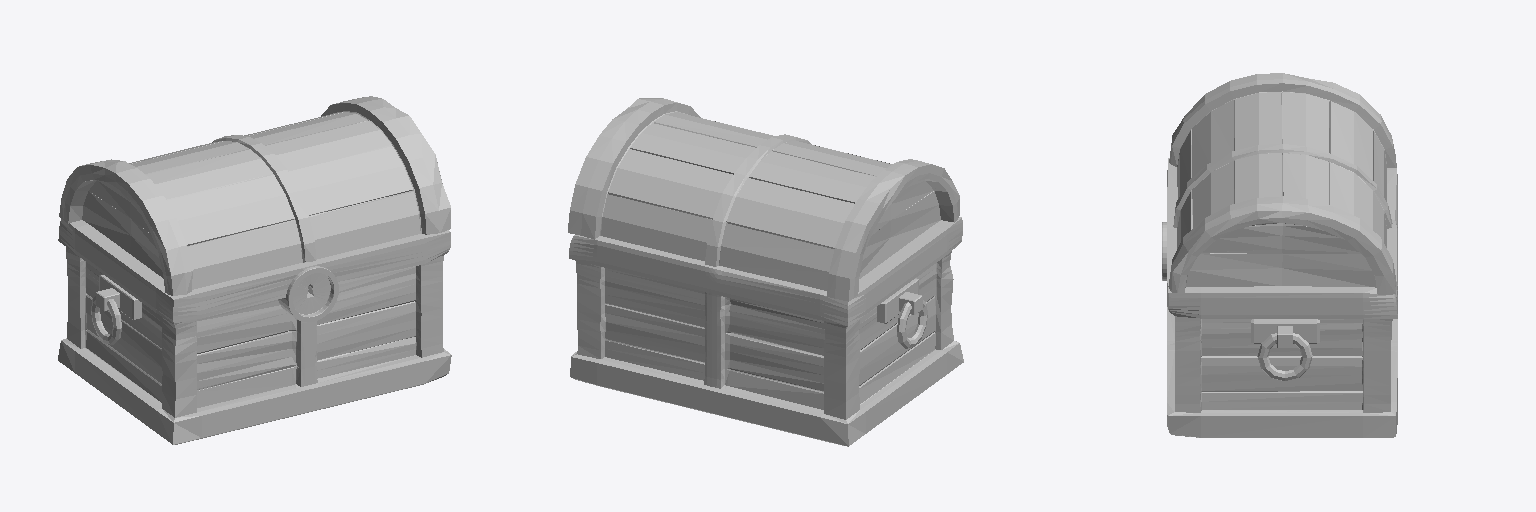
File: treasureChest_low.obj
The picture shows the model from 3 angles: view 1: azimuth 30°, elevation 25°; view 2: azimuth 150°, elevation 25°; view 3: azimuth 270°, elevation 25°; orthographic projection.
Visible parts, largest first — view 1: Body_low, Lid_low, Lock_low, Handle_low; view 2: Body_low, Lid_low, Handle_low; view 3: Lid_low, Body_low, Handle_low.
Boxes of the visible parts, x1,y1,x2,y2 form: Body_low: [58, 219, 451, 444]; Lid_low: [59, 96, 450, 295]; Lock_low: [278, 266, 338, 321]; Handle_low: [91, 275, 141, 344]; Body_low: [569, 217, 963, 446]; Lid_low: [568, 98, 959, 301]; Handle_low: [877, 278, 927, 348]; Lid_low: [1168, 73, 1396, 294]; Body_low: [1167, 158, 1397, 437]; Handle_low: [1251, 319, 1319, 380].
Bounding box in the file's own units: 2.39 × 1.72 × 1.58.